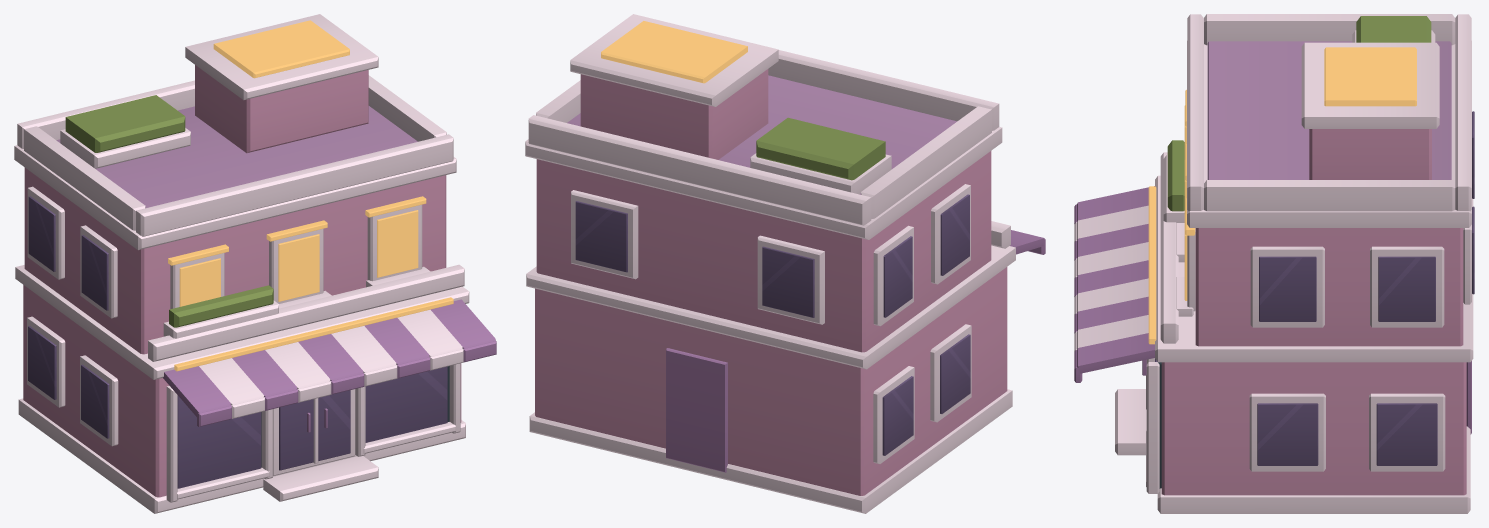
The model's file is 04D-market-threejs.glb.
The picture shows the model from 3 angles, left to right: view 1: azimuth 30°, elevation 25°; view 2: azimuth 150°, elevation 25°; view 3: azimuth 270°, elevation 25°; orthographic projection. The views are drawn at different scales.
Visible parts, largest first — view 1: 04D / trim, 04D / wall, 04D / glass, 04D / glow, 04D / roof, 04D / accent, 04D / green; view 2: 04D / wall, 04D / trim, 04D / glass, 04D / roof, 04D / accent, 04D / glow, 04D / green; view 3: 04D / trim, 04D / wall, 04D / glass, 04D / roof, 04D / accent, 04D / glow, 04D / green.
Boxes of the visible parts, box(x1,y1,x2,y2) form: 04D / trim: box(14, 14, 469, 513); 04D / wall: box(23, 65, 461, 497); 04D / glass: box(28, 196, 447, 488); 04D / glow: box(168, 20, 453, 371); 04D / roof: box(56, 106, 417, 207); 04D / accent: box(163, 299, 496, 432); 04D / green: box(65, 95, 273, 327); 04D / wall: box(535, 69, 1007, 495); 04D / trim: box(525, 14, 1015, 513); 04D / glass: box(575, 194, 970, 455); 04D / roof: box(567, 75, 956, 194); 04D / accent: box(666, 230, 1045, 472); 04D / glow: box(601, 21, 747, 83); 04D / green: box(756, 117, 885, 180); 04D / trim: box(1074, 14, 1473, 513); 04D / wall: box(1161, 129, 1466, 495); 04D / glass: box(1155, 111, 1474, 465); 04D / roof: box(1207, 41, 1451, 179); 04D / accent: box(1074, 186, 1471, 434); 04D / glow: box(1148, 47, 1416, 344); 04D / green: box(1167, 16, 1431, 211).
Bounding box in the file's own units: 6.28 × 6.49 × 6.04.
8 materials, 8 textured.
